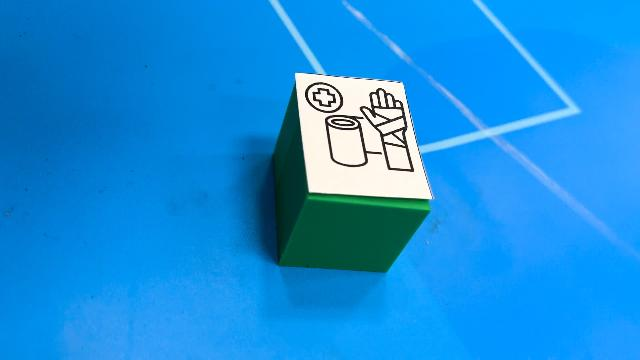bandage: (272, 72, 434, 272)
